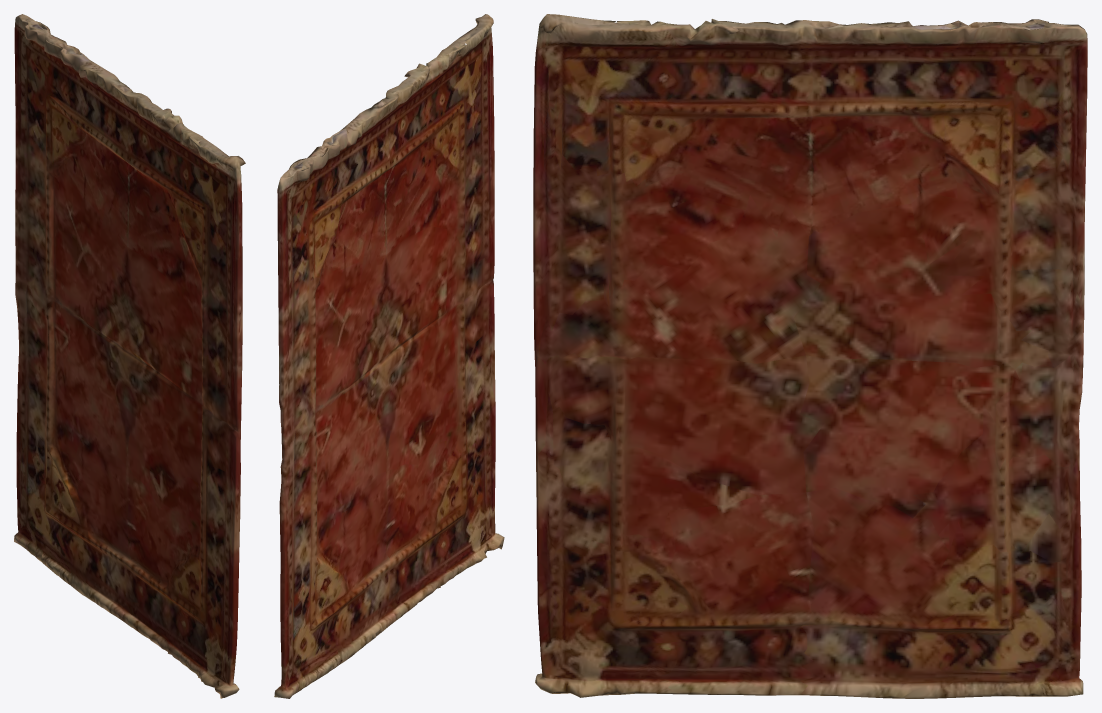
Rendered from de_rug.glb.
3 views of the same model, side by side, from view 1: azimuth 30°, elevation 25°; view 2: azimuth 150°, elevation 25°; view 3: azimuth 270°, elevation 25° (orthographic). The views are drawn at different scales.
Visible parts, largest first — view 1: tripo_node_d22b95c2-bc9e-4729-8d5b-989210ba471a; view 2: tripo_node_d22b95c2-bc9e-4729-8d5b-989210ba471a; view 3: tripo_node_d22b95c2-bc9e-4729-8d5b-989210ba471a.
Part boxes in pixels (bbox=[...]): tripo_node_d22b95c2-bc9e-4729-8d5b-989210ba471a: bbox=[14, 14, 245, 698]; tripo_node_d22b95c2-bc9e-4729-8d5b-989210ba471a: bbox=[274, 14, 504, 698]; tripo_node_d22b95c2-bc9e-4729-8d5b-989210ba471a: bbox=[533, 14, 1087, 698].
Bounding box in the file's own units: 0.0499 × 1 × 0.7335.
Materials: 1 (1 with a texture image).
